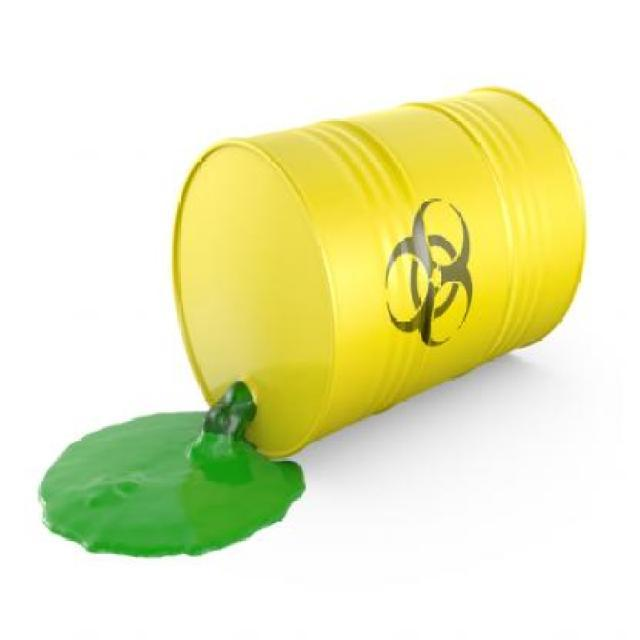spillage: (36, 411, 306, 558)
